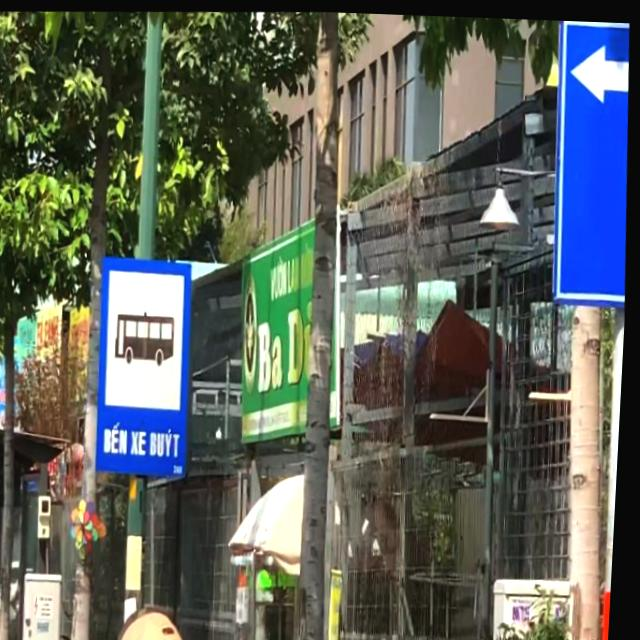Ben xe buyt: (90, 250, 203, 480)
